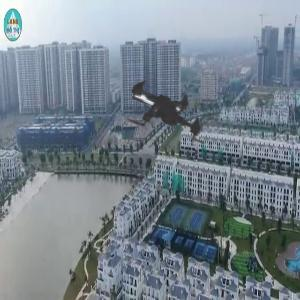drone: (89, 25, 248, 184)
